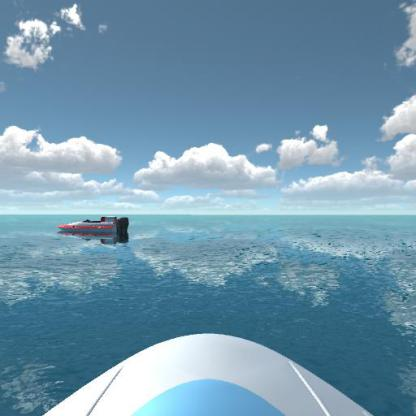usv3: (53, 212, 142, 244)
